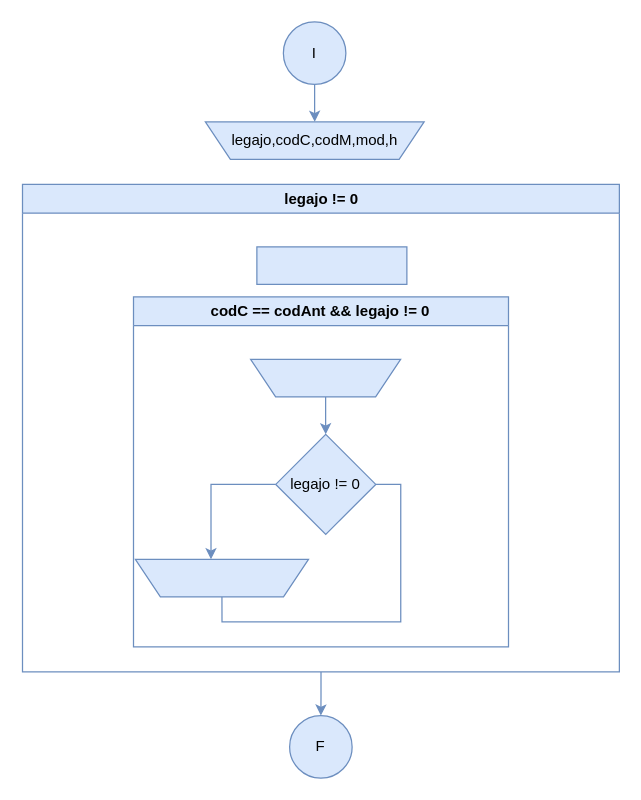
The diagram is 641 pixels wide and 800 high, and some of its shapes have lost their labels. Here are the shapes that lost their labels. From the top down, the centre of each, then its label:
At (x=331, y=265): "codAnt = codC".
At (x=325, y=377): "legajo".
At (x=221, y=577): "codC,codM, mod, h".
